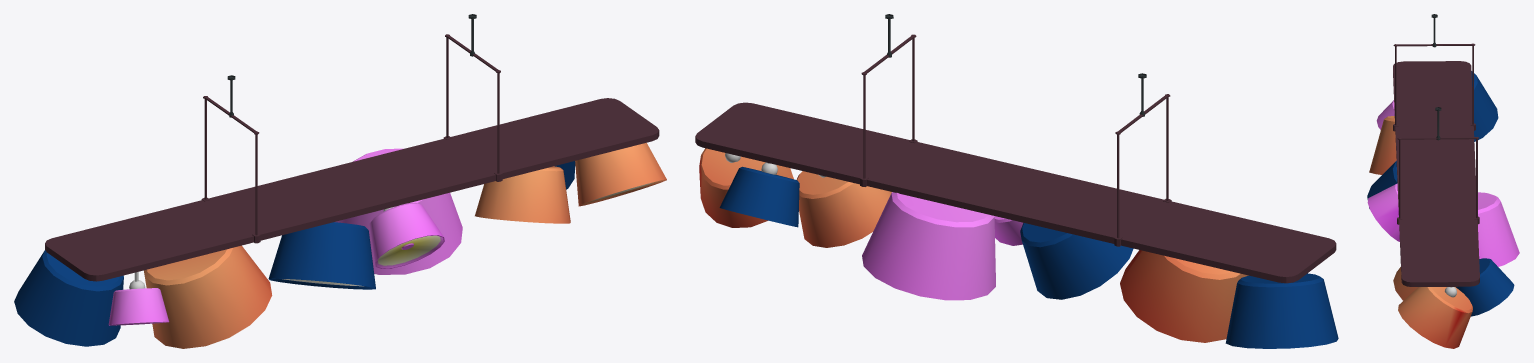
Rendered from Acqarium lights.fbx.
3 renders of one model, left to right at view 1: azimuth 30°, elevation 25°; view 2: azimuth 150°, elevation 25°; view 3: azimuth 270°, elevation 25°, orthographic. The views are drawn at different scales.
Visible parts, largest first — view 1: Acqarium lights; view 2: Acqarium lights; view 3: Acqarium lights.
Boxes of the visible parts, left/top/right/bottom form: Acqarium lights: left=14, top=14, right=666, bottom=348; Acqarium lights: left=695, top=14, right=1338, bottom=348; Acqarium lights: left=1367, top=14, right=1519, bottom=348.
Size of the model in its own units: 216 by 78.9 by 58.4.
Materials: 1 (1 with a texture image).
